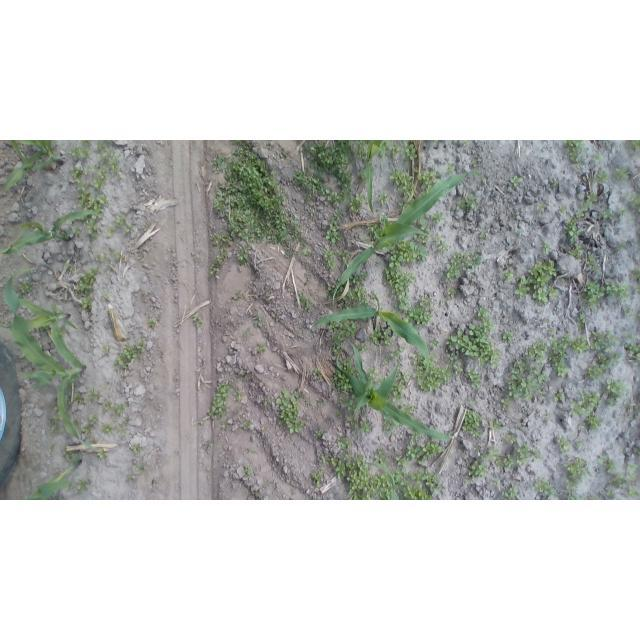Maize: (330, 171, 483, 312), (3, 267, 100, 452), (336, 342, 454, 441), (306, 291, 430, 380), (1, 210, 98, 256), (1, 140, 64, 192), (26, 455, 82, 500), (3, 298, 82, 329), (361, 140, 388, 216), (366, 459, 399, 499)
Weeds: (211, 141, 300, 244), (446, 303, 502, 367), (329, 454, 396, 499), (304, 140, 353, 190), (507, 360, 548, 400), (384, 268, 417, 309), (529, 261, 560, 304), (398, 471, 442, 500), (277, 386, 304, 432), (446, 252, 483, 280), (576, 330, 620, 352), (550, 333, 572, 377), (328, 319, 356, 352), (586, 353, 620, 379), (417, 355, 440, 392), (98, 141, 121, 177), (210, 382, 231, 420), (571, 389, 601, 415), (116, 342, 144, 369), (566, 457, 591, 486), (106, 214, 134, 239), (406, 442, 442, 461), (293, 170, 324, 192), (390, 243, 417, 268), (565, 140, 588, 169), (605, 380, 629, 407), (77, 267, 100, 293), (583, 281, 605, 308), (78, 191, 107, 211), (454, 194, 479, 217), (463, 409, 483, 437), (525, 339, 548, 363), (391, 169, 414, 193), (85, 164, 107, 189), (531, 479, 557, 500), (211, 250, 230, 276), (576, 192, 596, 216), (67, 140, 93, 158), (606, 281, 630, 300), (324, 220, 343, 243), (405, 308, 432, 324), (333, 371, 354, 391), (598, 451, 617, 473), (45, 417, 63, 440), (565, 218, 581, 243), (515, 274, 531, 298), (623, 189, 640, 211), (373, 447, 391, 466), (296, 292, 313, 312), (626, 461, 640, 485), (382, 416, 398, 437), (410, 242, 427, 261), (322, 189, 345, 203), (516, 444, 531, 465), (84, 218, 101, 236), (496, 455, 515, 471), (469, 460, 488, 476), (557, 435, 572, 455), (587, 251, 602, 271), (464, 370, 481, 387), (412, 353, 424, 377), (392, 385, 407, 404), (85, 255, 110, 266), (310, 468, 323, 489), (368, 366, 381, 387), (324, 248, 337, 269), (17, 280, 33, 297), (501, 329, 516, 347), (352, 271, 370, 286), (118, 415, 131, 435), (502, 484, 518, 500), (238, 244, 250, 265), (72, 391, 86, 409), (587, 415, 601, 433), (367, 221, 381, 239), (433, 234, 448, 250), (81, 295, 96, 311), (481, 447, 497, 462), (624, 141, 640, 156), (502, 430, 519, 444), (327, 284, 344, 298), (342, 355, 355, 373), (350, 194, 363, 212), (336, 436, 354, 449), (420, 171, 439, 183), (381, 328, 393, 346), (501, 269, 516, 283), (147, 314, 161, 329), (626, 342, 639, 358), (192, 312, 204, 329), (487, 418, 501, 432), (350, 287, 365, 300), (81, 423, 96, 436), (404, 144, 416, 160), (369, 329, 380, 346), (314, 368, 327, 382), (399, 402, 413, 415), (570, 245, 584, 258), (347, 392, 356, 412), (46, 403, 59, 416), (231, 290, 244, 303), (601, 207, 614, 220), (77, 479, 89, 493), (616, 168, 630, 180), (591, 152, 605, 164), (430, 211, 445, 222), (614, 473, 625, 488), (578, 311, 587, 329), (316, 399, 329, 411), (419, 295, 432, 307), (511, 175, 524, 187), (101, 423, 113, 436), (396, 456, 408, 469), (540, 241, 551, 255), (441, 366, 452, 380), (420, 219, 431, 233), (128, 443, 142, 454), (303, 271, 314, 285), (63, 450, 73, 465), (531, 448, 543, 460), (390, 144, 402, 156), (88, 388, 100, 400), (336, 248, 352, 257), (628, 487, 639, 500), (71, 168, 84, 179), (338, 297, 351, 308), (360, 421, 373, 432), (243, 463, 251, 480), (631, 264, 640, 279), (605, 486, 616, 498), (447, 286, 458, 298), (71, 226, 82, 238), (500, 398, 510, 411), (478, 230, 488, 243), (113, 250, 126, 260), (618, 208, 631, 218), (234, 390, 245, 401), (598, 172, 609, 183), (101, 401, 112, 412), (303, 192, 313, 204), (125, 471, 134, 484), (307, 208, 316, 221), (420, 187, 433, 196), (616, 241, 626, 252), (114, 405, 124, 416), (64, 263, 74, 274), (101, 291, 111, 302), (75, 179, 85, 190), (377, 193, 388, 203), (453, 362, 462, 374), (535, 202, 547, 211), (447, 163, 456, 175), (567, 492, 580, 500), (359, 344, 369, 354), (397, 373, 407, 383), (142, 221, 152, 231), (555, 391, 564, 402), (429, 339, 440, 348), (242, 418, 251, 429), (254, 316, 263, 327), (358, 299, 372, 306), (416, 235, 429, 242), (576, 439, 586, 448), (338, 395, 347, 405), (135, 463, 144, 473), (344, 255, 353, 265), (621, 306, 631, 315), (346, 416, 357, 424), (469, 158, 477, 169), (459, 140, 470, 148), (141, 292, 149, 303), (300, 238, 308, 249), (547, 326, 555, 337), (321, 455, 330, 464), (390, 349, 399, 358), (314, 430, 323, 439), (439, 297, 447, 307), (251, 490, 259, 500), (258, 341, 266, 351), (579, 421, 586, 432), (353, 425, 360, 436), (542, 412, 549, 423), (379, 376, 388, 384), (468, 397, 476, 406), (515, 228, 524, 236), (551, 179, 560, 187), (334, 210, 342, 219), (90, 414, 99, 422), (363, 236, 372, 244), (541, 317, 553, 323), (48, 443, 55, 453), (302, 251, 312, 258), (510, 212, 518, 220), (219, 420, 227, 428), (383, 359, 390, 368), (103, 346, 110, 355), (118, 375, 127, 382), (98, 451, 107, 458), (558, 206, 566, 213), (264, 398, 271, 406), (90, 437, 98, 444), (206, 440, 214, 447), (275, 314, 282, 322), (628, 216, 636, 223), (585, 496, 595, 501), (265, 480, 272, 487), (561, 278, 568, 285), (624, 403, 632, 409), (491, 479, 499, 485), (73, 418, 79, 426), (634, 286, 640, 293), (465, 475, 470, 483), (520, 426, 525, 434), (126, 281, 131, 288), (245, 448, 252, 453), (635, 310, 640, 317), (374, 262, 382, 266), (195, 257, 200, 263), (241, 372, 247, 377), (605, 140, 611, 144), (431, 141, 438, 144)
